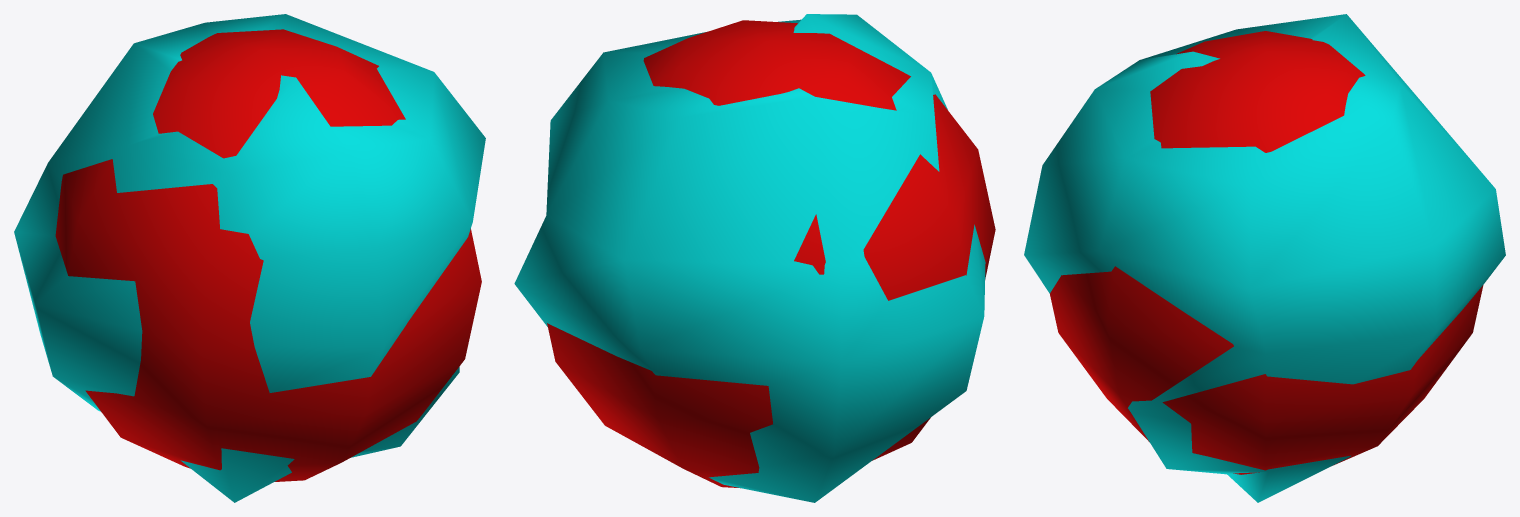
File: Fireball.fbx
The picture shows the model from 3 angles, left to right: view 1: azimuth 30°, elevation 25°; view 2: azimuth 150°, elevation 25°; view 3: azimuth 270°, elevation 25°; orthographic projection. The views are drawn at different scales.
Parts seen in each view (by area): view 1: Fire_ball; view 2: Fire_ball; view 3: Fire_ball.
Part boxes in pixels (x1,y1,x2,y2): Fire_ball: (14,14,485,502); Fire_ball: (514,14,995,502); Fire_ball: (1024,14,1505,502).
Size of the model in its own units: 0.0614 by 0.0564 by 0.0601.
